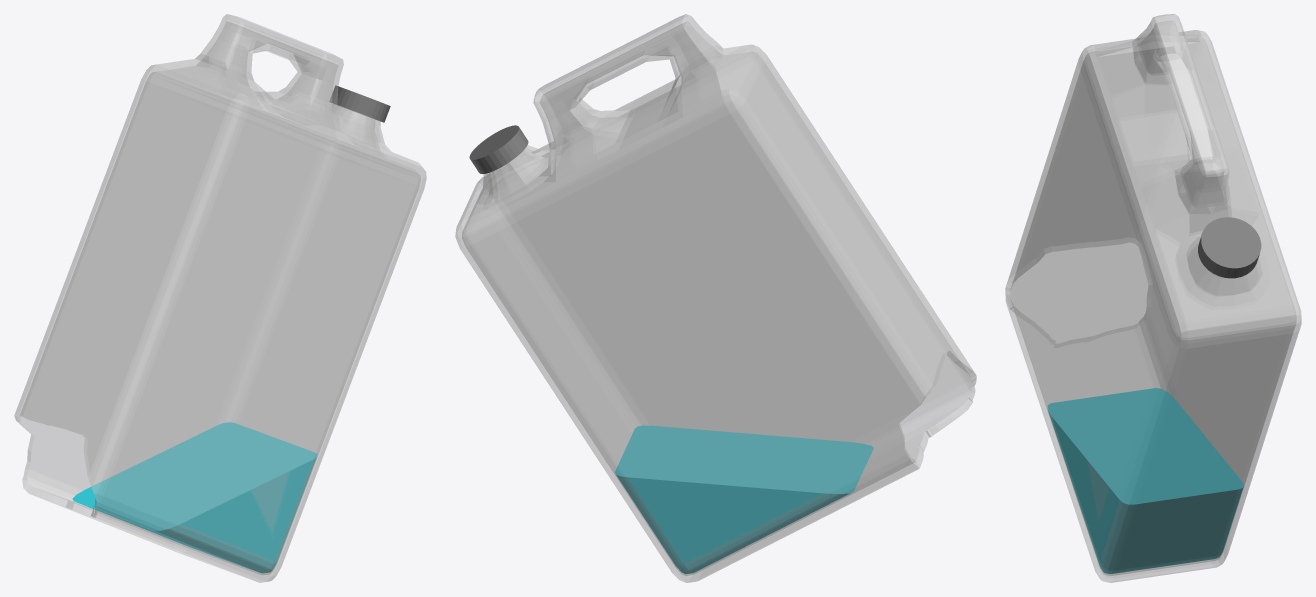
Rendered from LeakyReactorCoolant.fbx.
3 renders of one model, left to right at view 1: azimuth 30°, elevation 25°; view 2: azimuth 150°, elevation 25°; view 3: azimuth 270°, elevation 25°, orthographic. The views are drawn at different scales.
Parts seen in each view (by area): view 1: TransparentBottle, Contents; view 2: TransparentBottle, Contents; view 3: TransparentBottle, Contents.
Boxes of the visible parts, x1,y1,x2,y2 form: TransparentBottle: [14, 14, 426, 582]; Contents: [72, 85, 390, 573]; TransparentBottle: [455, 14, 976, 582]; Contents: [469, 125, 873, 573]; TransparentBottle: [1005, 14, 1301, 582]; Contents: [1047, 217, 1261, 573].
Bounding box in the file's own units: 1003 × 1206 × 573.
